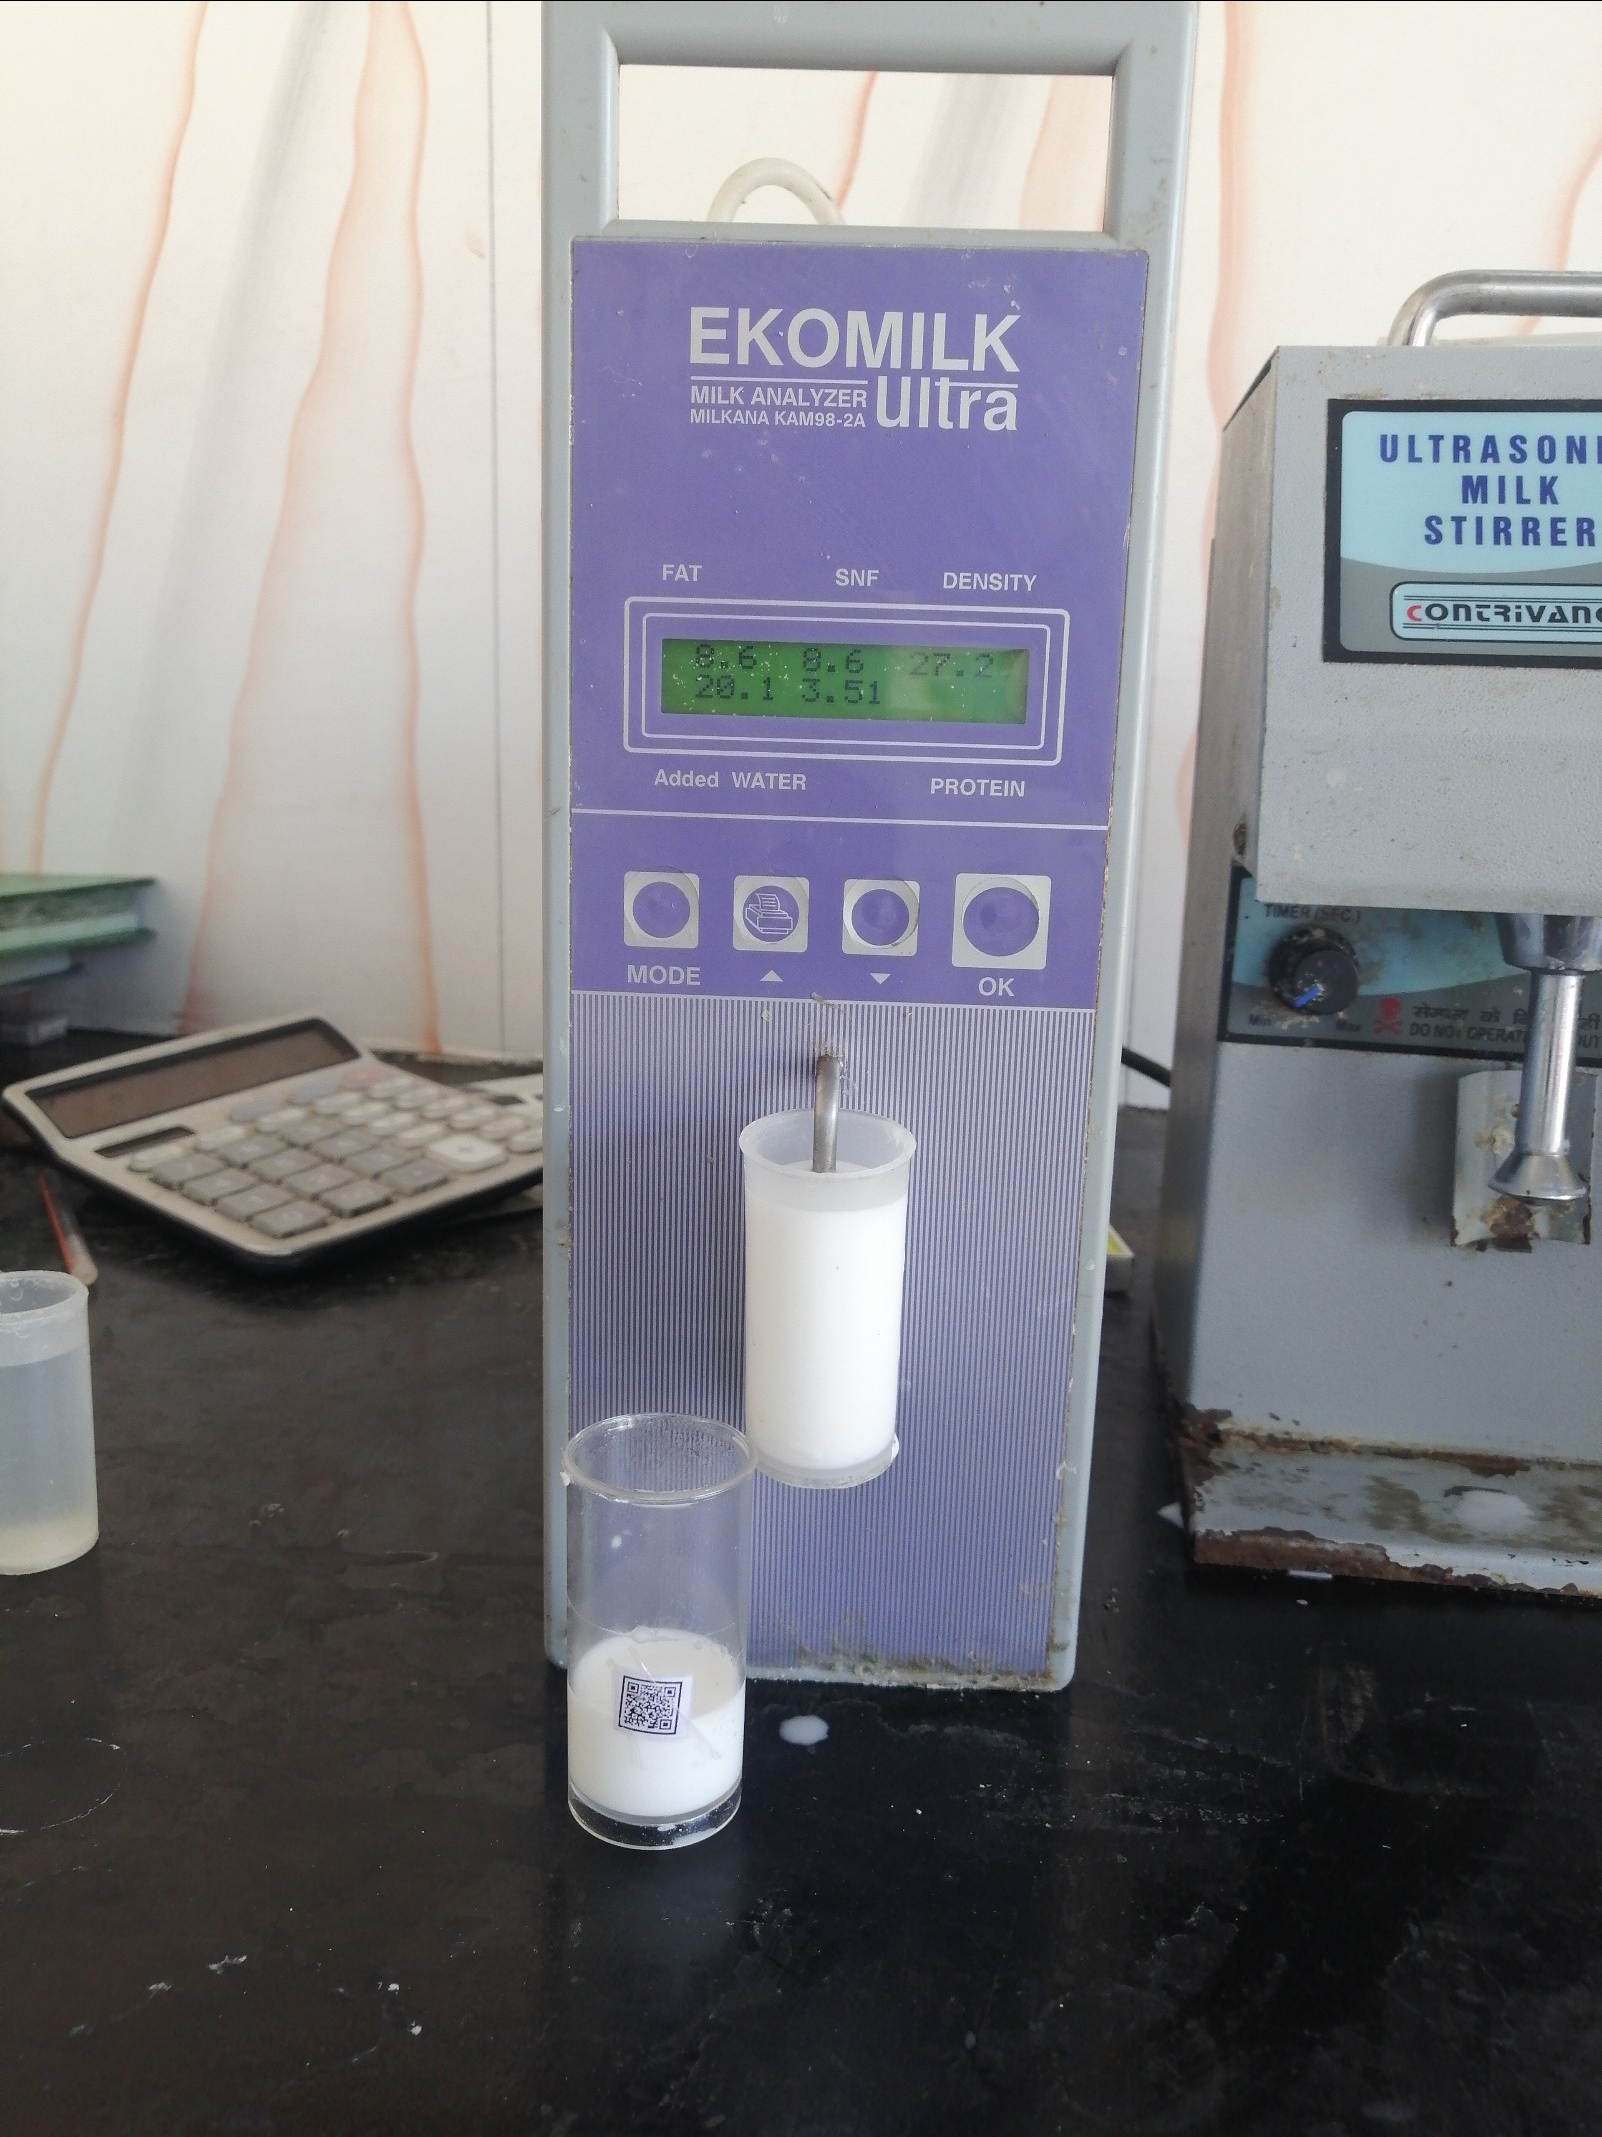lcd: (639, 618, 1069, 749)
qr: (602, 1664, 708, 1752)
